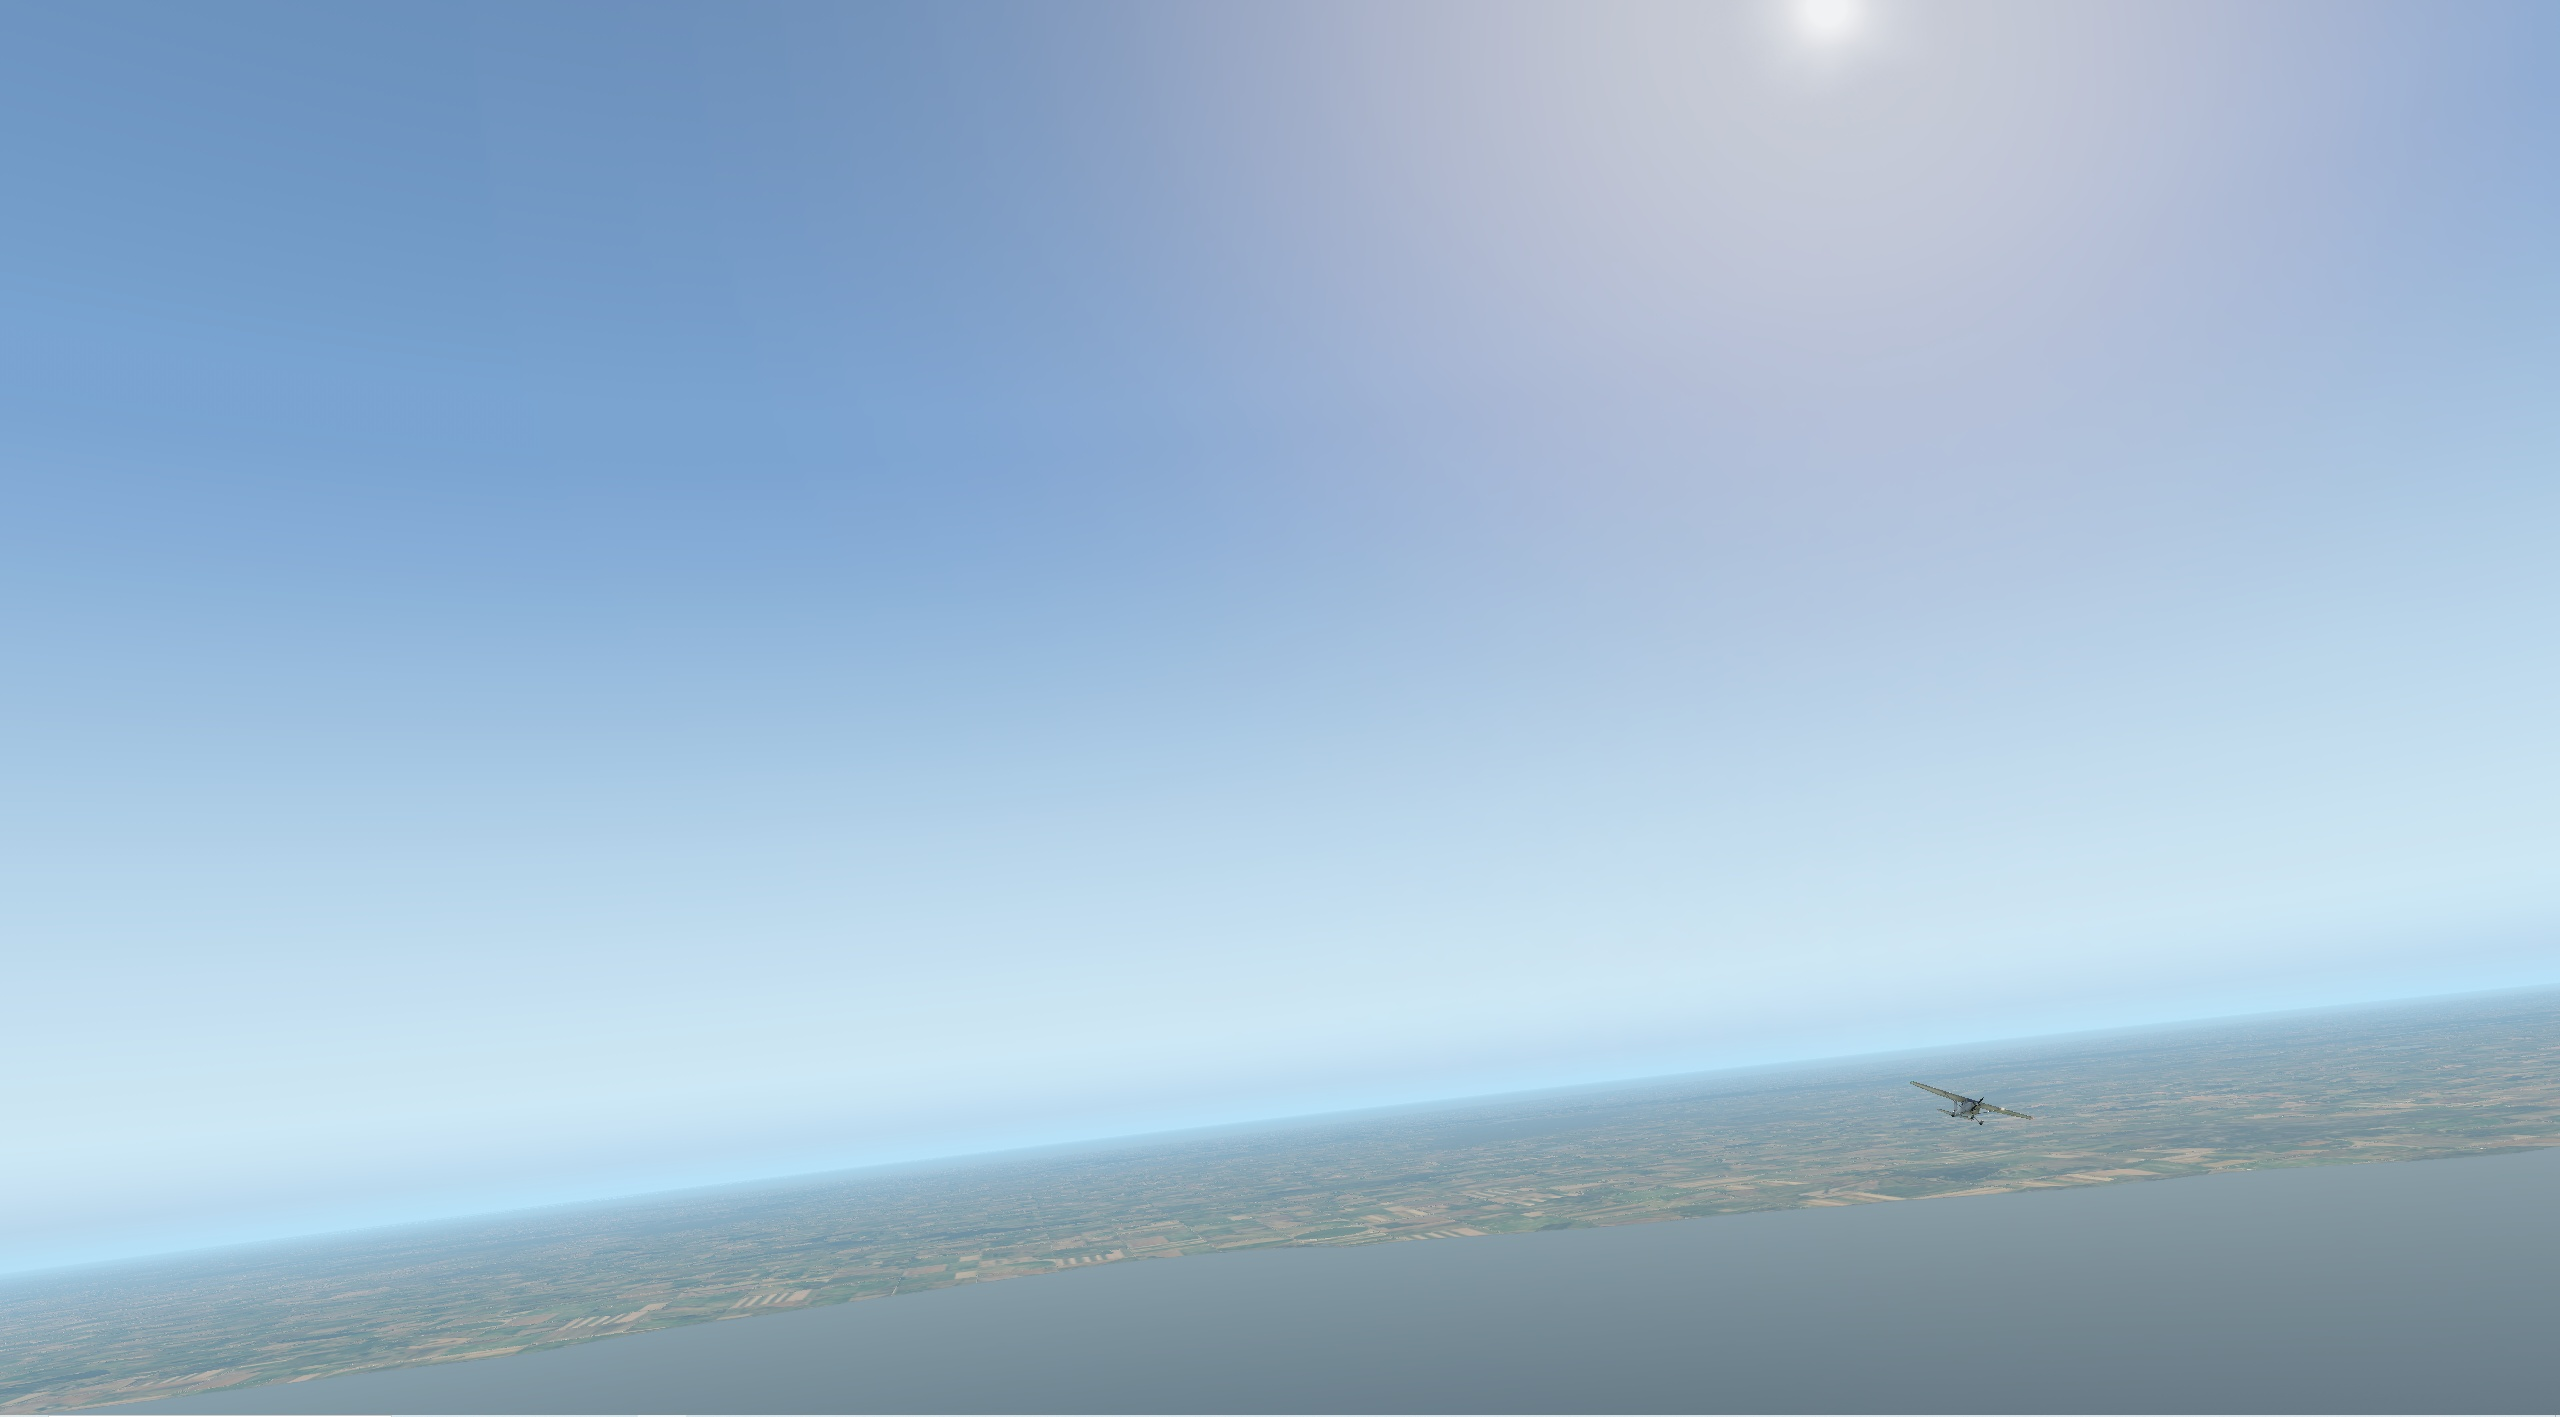aircraft: (1907, 1084, 2033, 1131)
